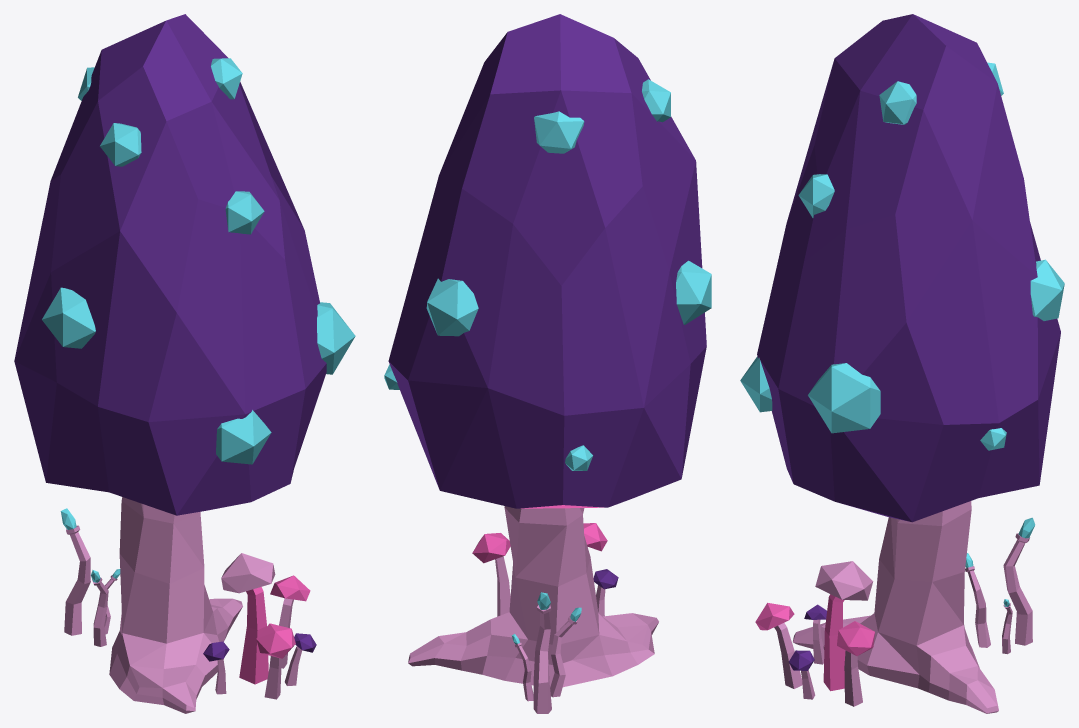
Rendered from Mushroom_Tree_02.fbx.
3 renders of one model, left to right at view 1: azimuth 30°, elevation 25°; view 2: azimuth 150°, elevation 25°; view 3: azimuth 270°, elevation 25°, orthographic.
Visible parts, largest first — view 1: Mushroom_Tree_2; view 2: Mushroom_Tree_2; view 3: Mushroom_Tree_2.
Part boxes in pixels (box(x1,y1,x2,y2)): Mushroom_Tree_2: box(14, 14, 355, 713); Mushroom_Tree_2: box(384, 14, 711, 713); Mushroom_Tree_2: box(740, 14, 1064, 713).
Size of the model in its own units: 235 by 516 by 234.
